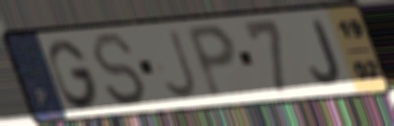7: (240, 19, 289, 97)
G: (46, 37, 102, 112)
J: (163, 27, 201, 102), (307, 17, 343, 87)
P: (183, 22, 240, 103)
S: (88, 31, 150, 109)
